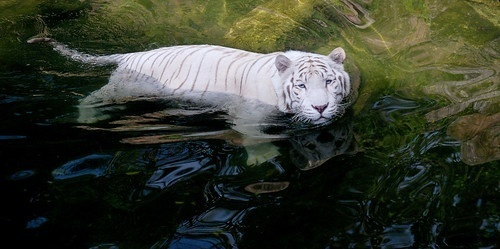tigre: (51, 36, 349, 154)
